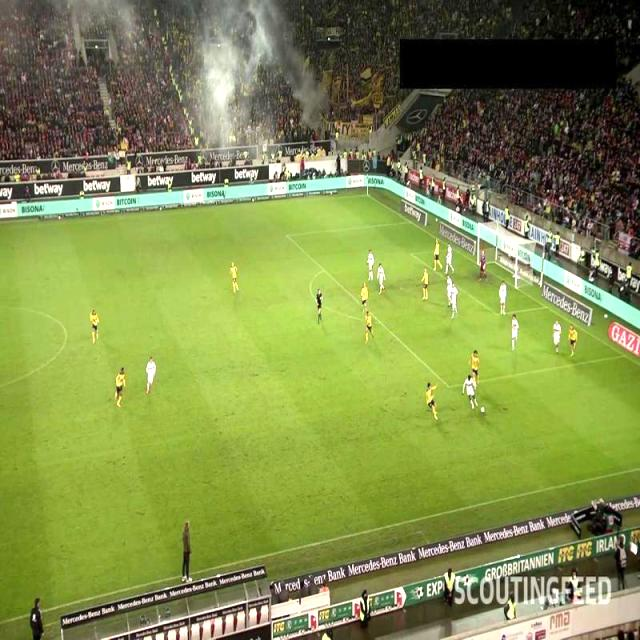bigarea_bottom_inner: (444, 382, 454, 392)
bigarea_bottom_outter: (619, 350, 630, 360)
bigarea_top_inner: (281, 229, 292, 240)
bigarea_top_outter: (404, 216, 414, 227)
bottom_arc_area_intersection: (374, 317, 386, 328)
corner: (361, 189, 372, 200)
smallarea_bottom_inner: (494, 306, 506, 318)
smallarea_bottom_outter: (540, 300, 552, 311)
smallarea_top_inner: (406, 248, 416, 258)
smallarea_top_outter: (445, 242, 458, 254)
top_arc_area_intersection: (317, 264, 328, 274)
